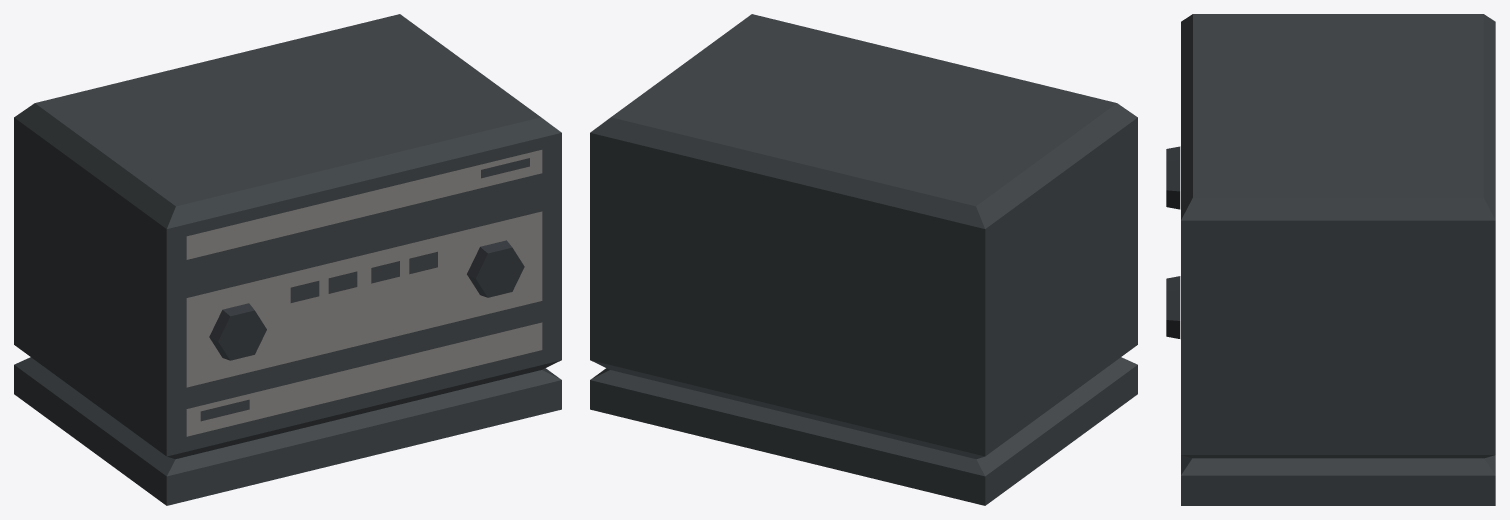
The model's file is SM_Prop_Stereo_01.glb.
The picture shows the model from 3 angles, left to right: view 1: azimuth 30°, elevation 25°; view 2: azimuth 150°, elevation 25°; view 3: azimuth 270°, elevation 25°; orthographic projection. The views are drawn at different scales.
Parts seen in each view (by area): view 1: SM_Prop_Stereo_01; view 2: SM_Prop_Stereo_01; view 3: SM_Prop_Stereo_01.
Part boxes in pixels (x1=…): SM_Prop_Stereo_01: x1=14, y1=14, x2=561, y2=505; SM_Prop_Stereo_01: x1=590, y1=14, x2=1137, y2=505; SM_Prop_Stereo_01: x1=1166, y1=14, x2=1495, y2=505.
Size of the model in its own units: 0.4772 by 0.3366 by 0.3343.
Materials: 1 (1 with a texture image).
